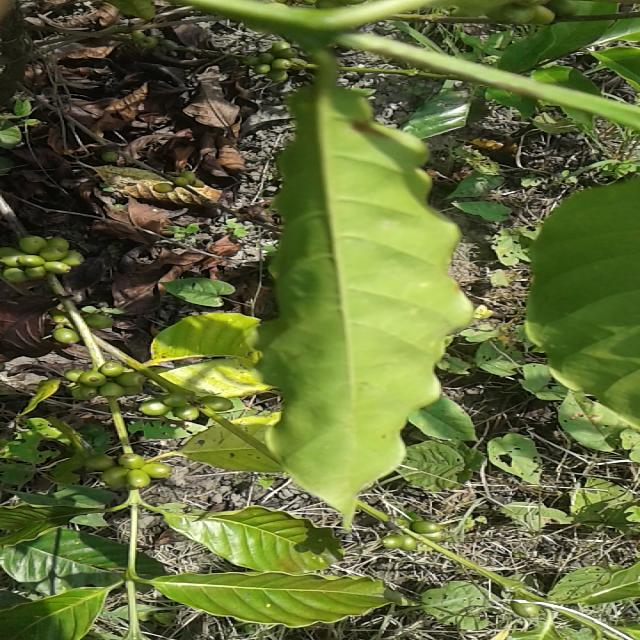Enfermedad-Roya: (256, 47, 472, 530)
